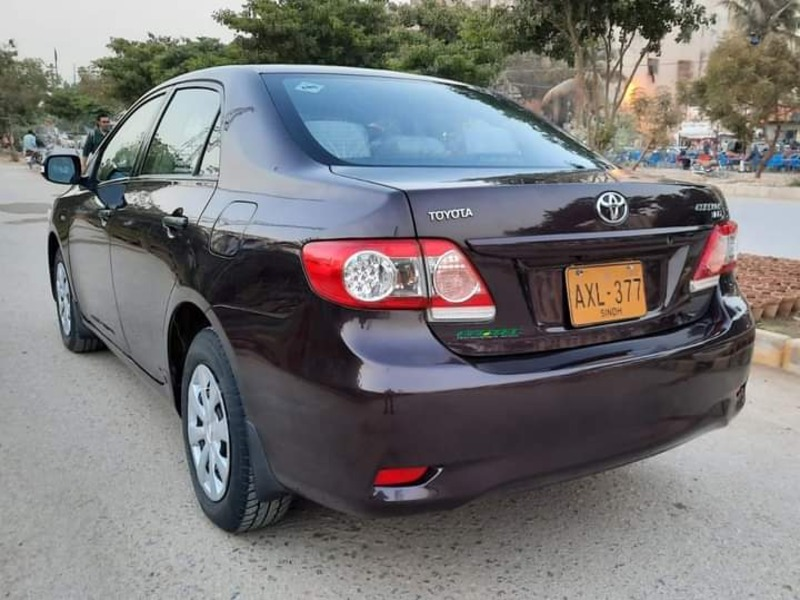License Plate: (560, 257, 653, 328)
